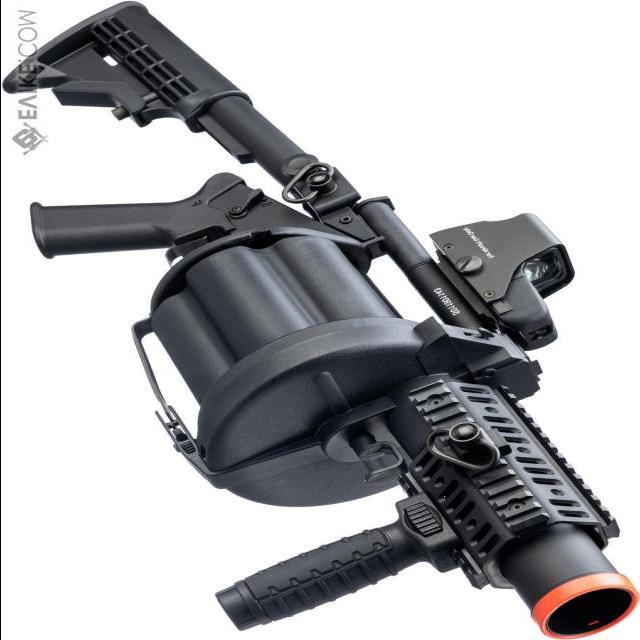rifle: (4, 4, 640, 639)
